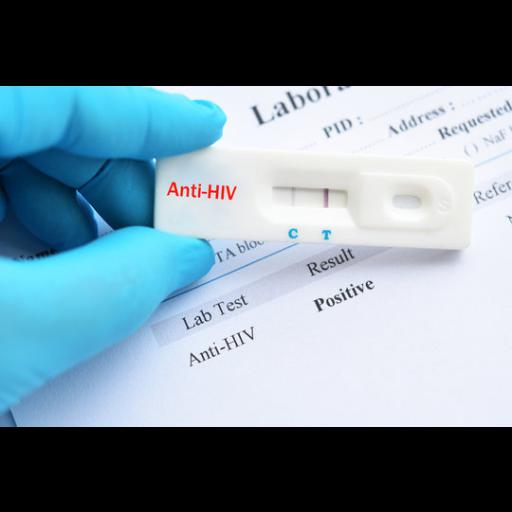Pos: (155, 143, 474, 252)
